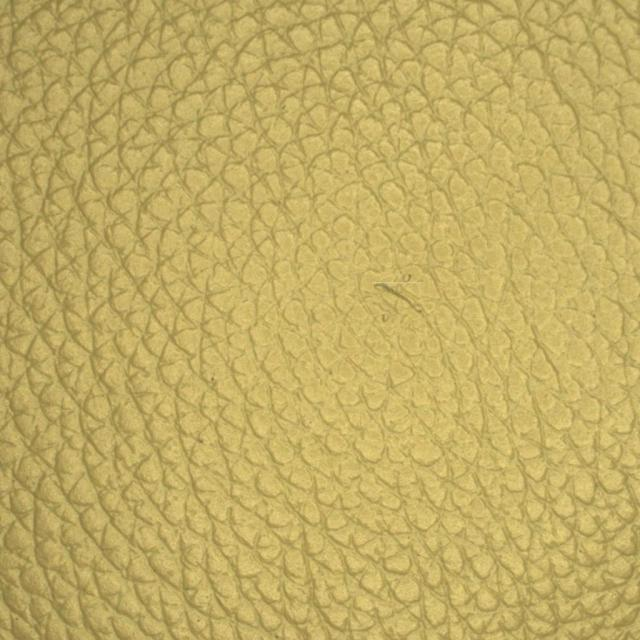Scratch: (308, 225, 471, 371)
